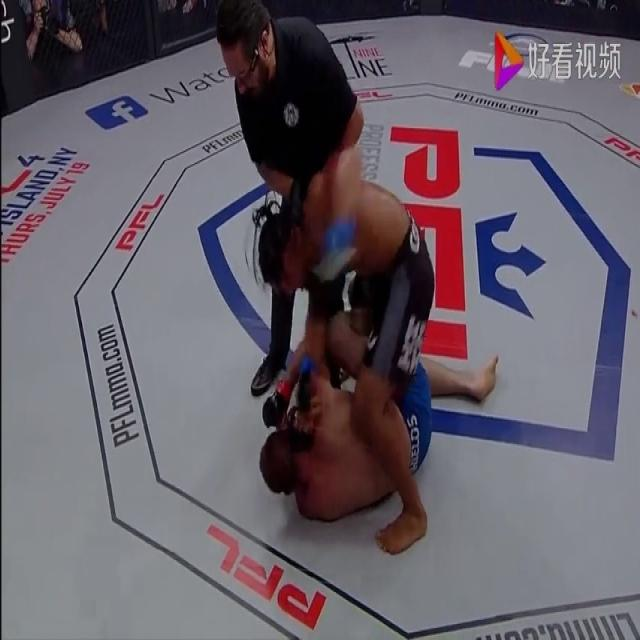fight: (236, 171, 514, 560)
